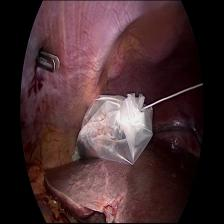Bipolar: (39, 49, 64, 80)
Specimen Bag: (66, 90, 174, 169)
